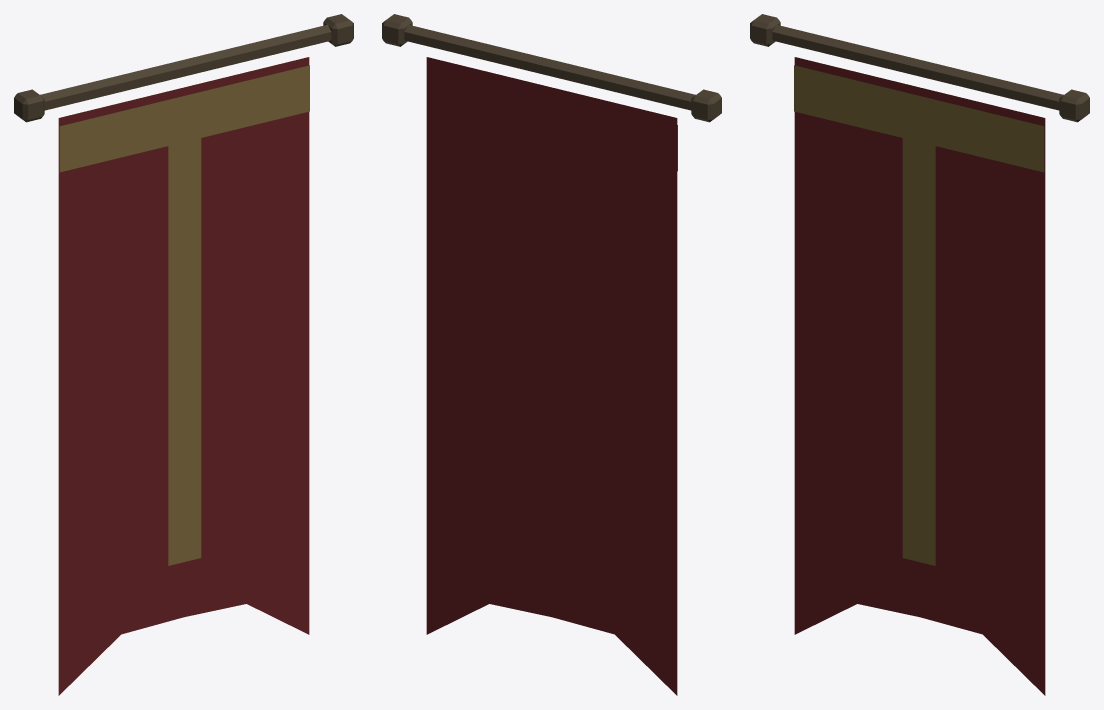
File: bridge-banner.glb
The picture shows the model from 3 angles, left to right: view 1: azimuth 30°, elevation 25°; view 2: azimuth 150°, elevation 25°; view 3: azimuth 330°, elevation 25°; orthographic projection.
Visible parts, largest first — view 1: bridge-banner; view 2: bridge-banner; view 3: bridge-banner.
Boxes of the visible parts, left/top/right/bottom form: bridge-banner: left=14, top=14, right=353, bottom=695; bridge-banner: left=382, top=14, right=721, bottom=695; bridge-banner: left=750, top=14, right=1089, bottom=695.
Bounding box in the file's own units: 0.9 × 1.58 × 0.06.
